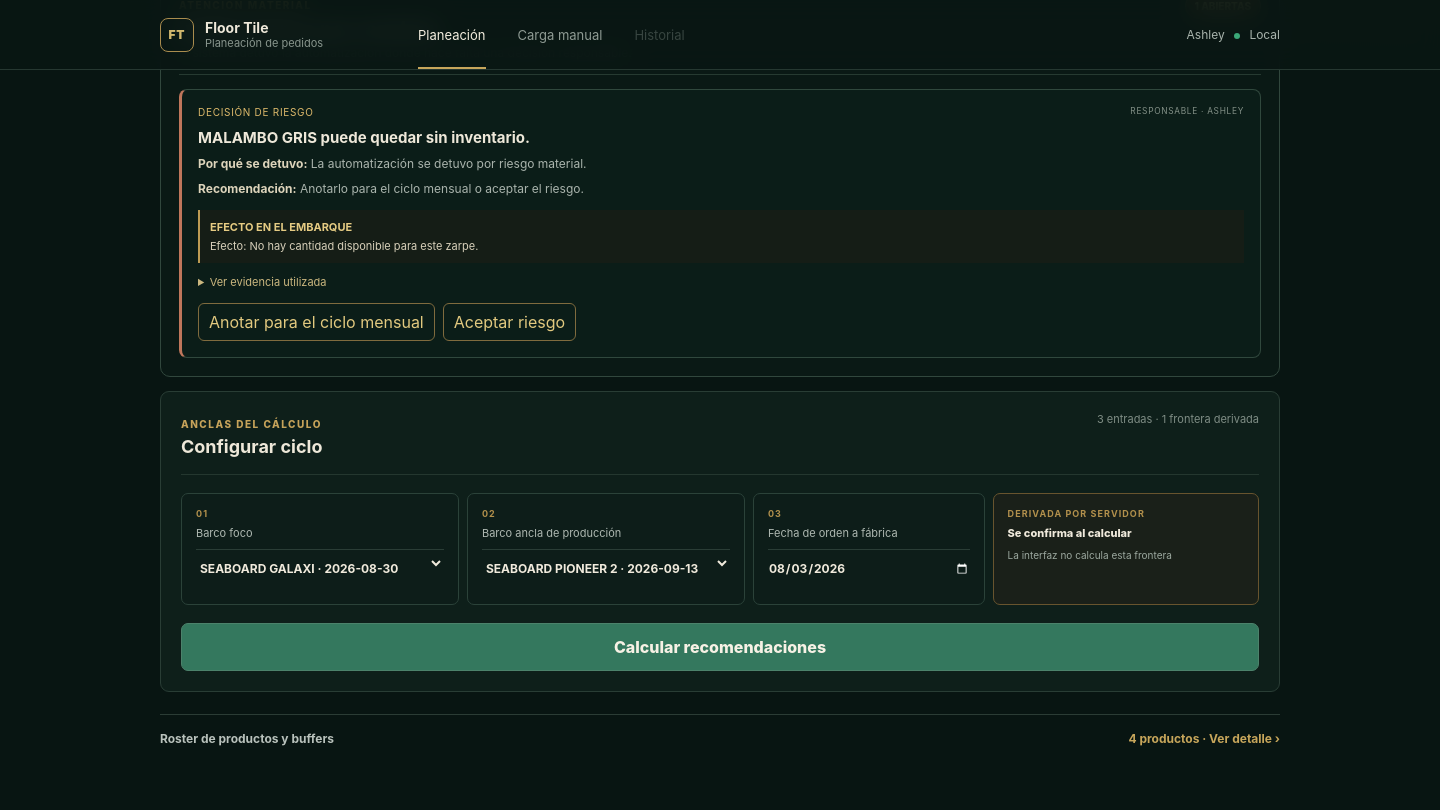
it: three-anchor composer › shows gross factory need, qualified active production, and net-new recommendation without netting completed rows
(page scrolled)
Click the button "Calcular recomendaciones". click: click(720, 647)
box: x1=181 y1=623 x2=1259 y2=671
(page scrolled)
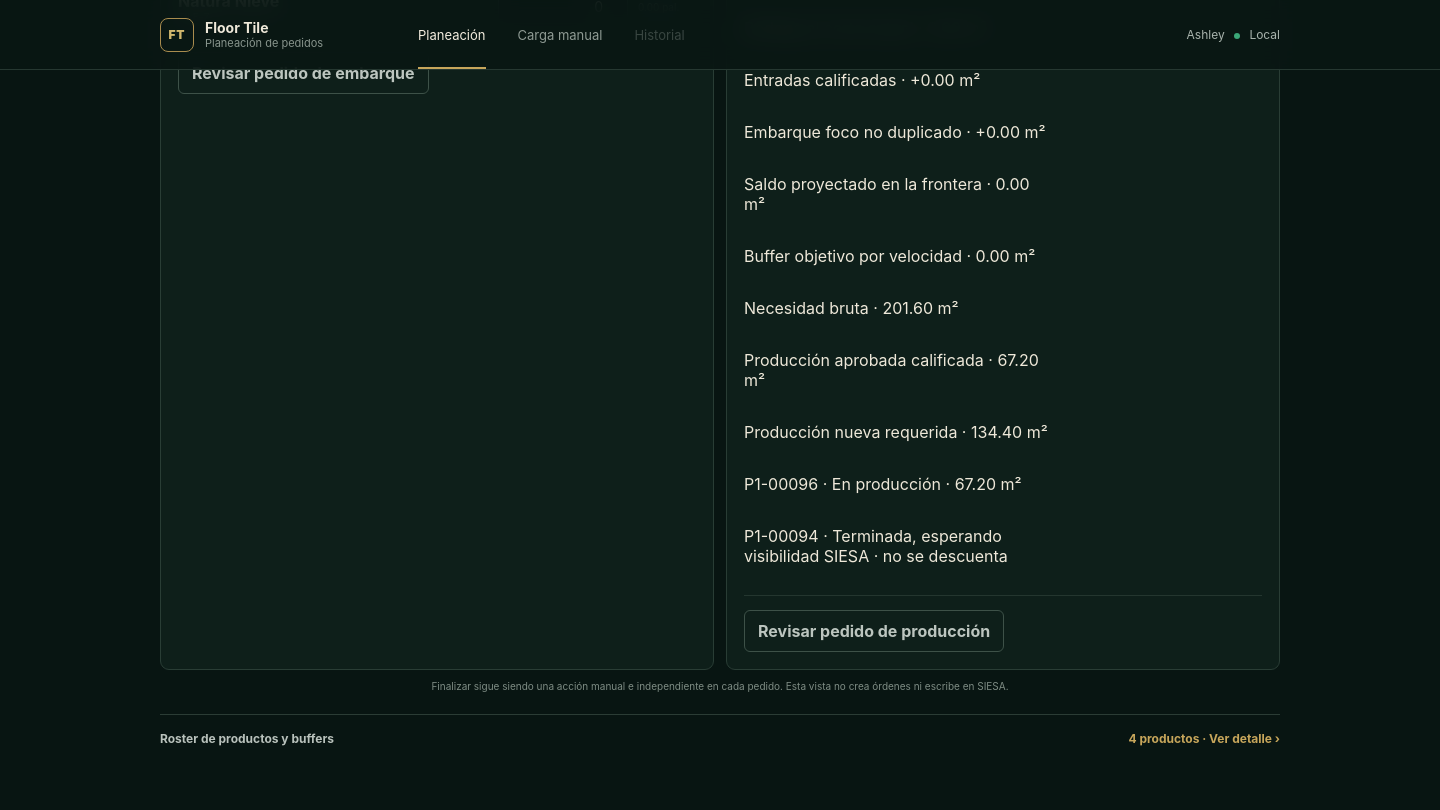
Check: the text "Necesidad bruta · 201.60 m²" is shown, box x1=744 y1=298 x2=959 y2=318
Check: the text "Producción aprobada calificada · 67.20 m²" is shown, box x1=744 y1=350 x2=1054 y2=390
Check: the text "Producción nueva requerida · 134.40 m²" is shown, box x1=744 y1=422 x2=1054 y2=442
